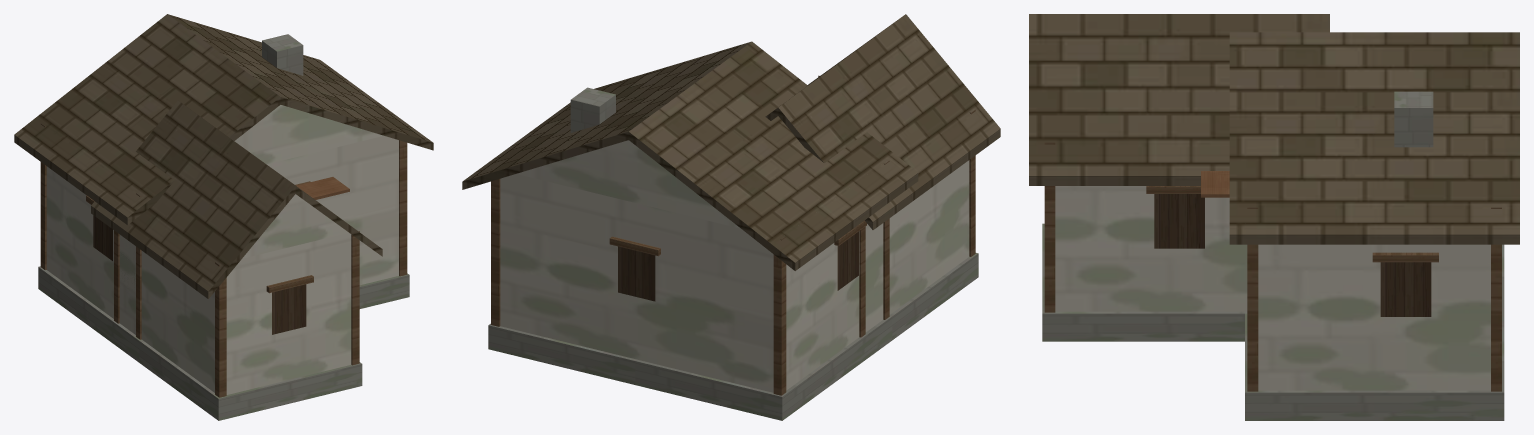
Rendered from ae_forest_stone_medium_court_lod1.glb.
3 views of the same model, side by side, from view 1: azimuth 30°, elevation 25°; view 2: azimuth 150°, elevation 25°; view 3: azimuth 270°, elevation 25° (orthographic). The views are drawn at different scales.
Visible parts, largest first — view 1: ae_forest_stone_medium_court_lod1; view 2: ae_forest_stone_medium_court_lod1; view 3: ae_forest_stone_medium_court_lod1.
Part boxes in pixels (x1,y1,x2,y2): ae_forest_stone_medium_court_lod1: (14,14,433,420); ae_forest_stone_medium_court_lod1: (462,14,1000,420); ae_forest_stone_medium_court_lod1: (1029,14,1519,420).
Bounding box in the file's own units: 5.8 × 4.3 × 6.29.
Materials: 1 (1 with a texture image).
